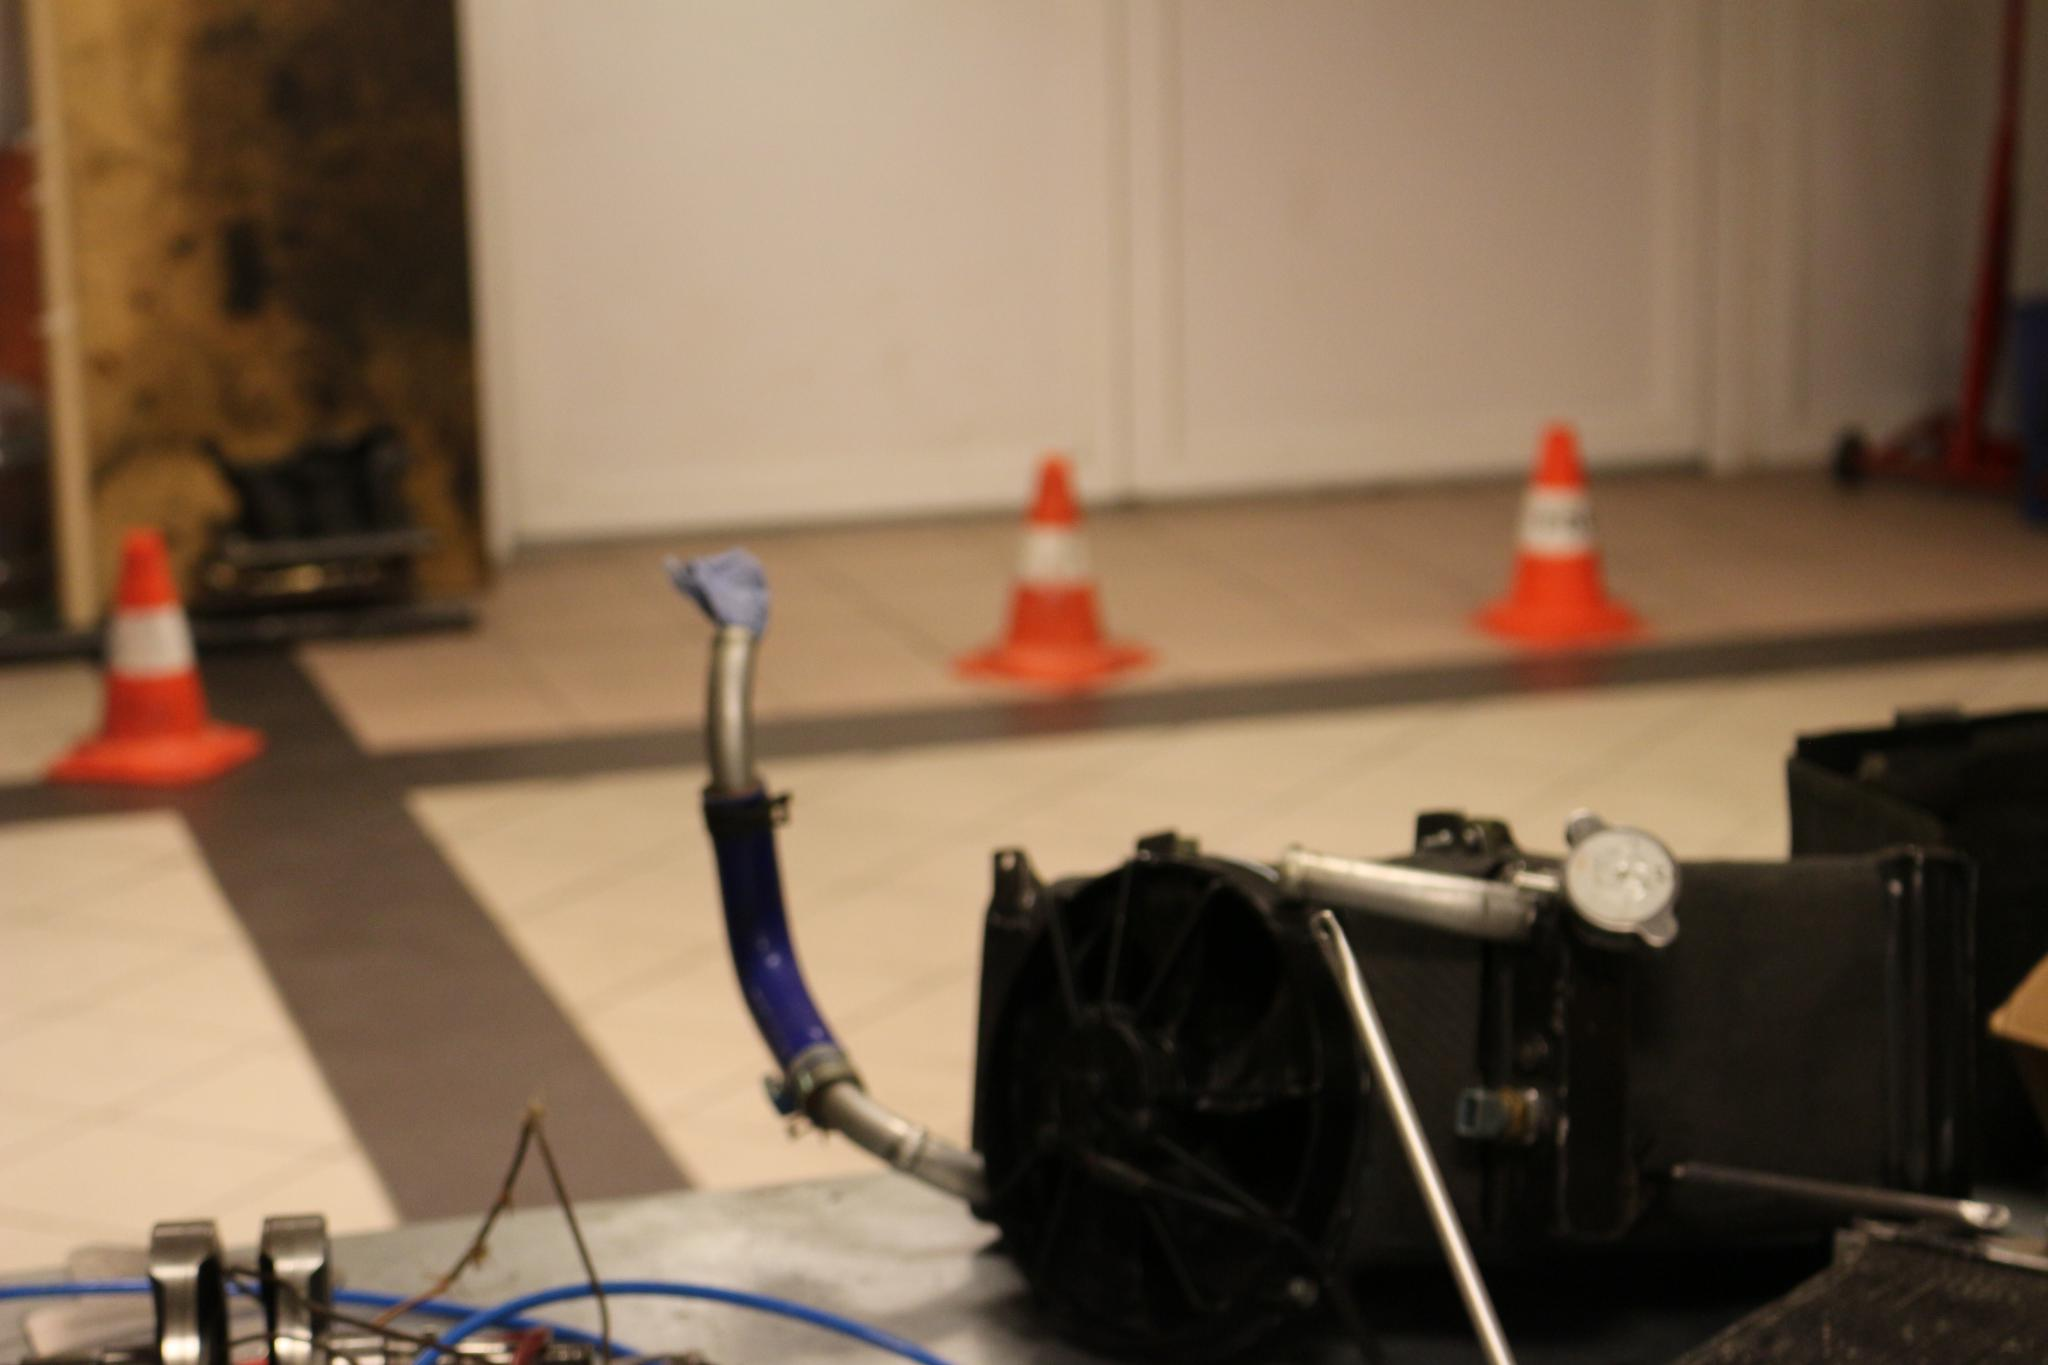Orange_Cone: (49, 512, 256, 778), (962, 448, 1134, 682), (1474, 410, 1634, 652)
